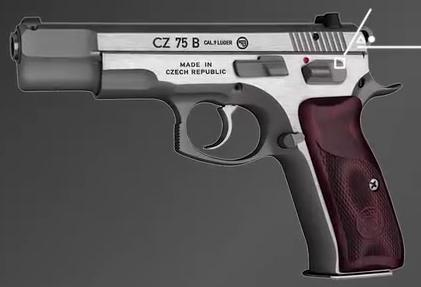gun: (1, 0, 421, 287)
